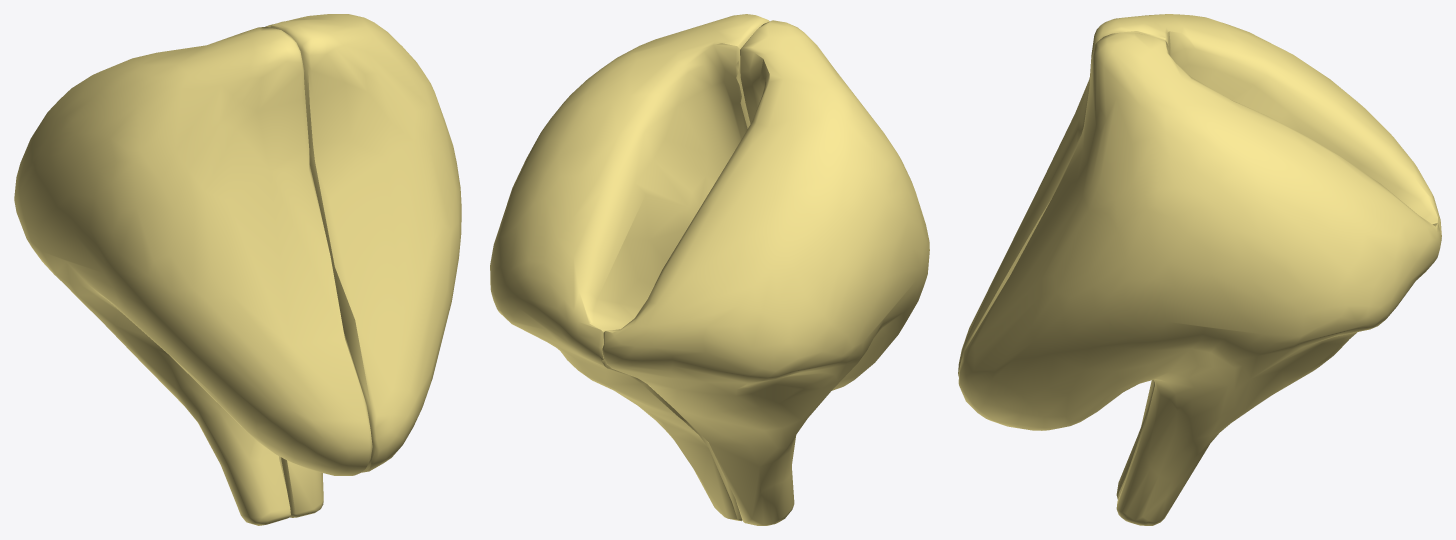
The model's file is hipotalamo.glb.
3 renders of one model, left to right at view 1: azimuth 30°, elevation 25°; view 2: azimuth 150°, elevation 25°; view 3: azimuth 270°, elevation 25°, orthographic. The views are drawn at different scales.
Visible parts, largest first — view 1: hipotalamo; view 2: hipotalamo; view 3: hipotalamo.
Part boxes in pixels (box(x1,y1,x2,y2)): hipotalamo: box(14, 14, 461, 525); hipotalamo: box(490, 14, 929, 525); hipotalamo: box(958, 14, 1441, 525).
Size of the model in its own units: 0.0152 by 0.0199 by 0.0179.
